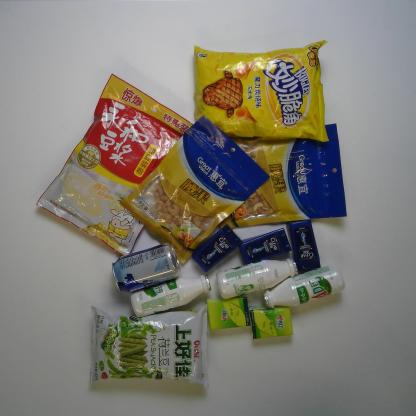Alcohol: (107, 242, 182, 298)
Dried Fruit: (119, 114, 270, 267), (219, 122, 347, 228)
Instant Drink: (36, 71, 207, 257)
Milk: (130, 267, 213, 318), (264, 264, 346, 313), (216, 253, 298, 300)
Personal Hygiene: (186, 224, 243, 276), (235, 227, 292, 272), (285, 216, 324, 276)
Puffed Food: (190, 36, 334, 146), (90, 304, 209, 388)
Tissue: (200, 295, 252, 332), (244, 305, 294, 343)
